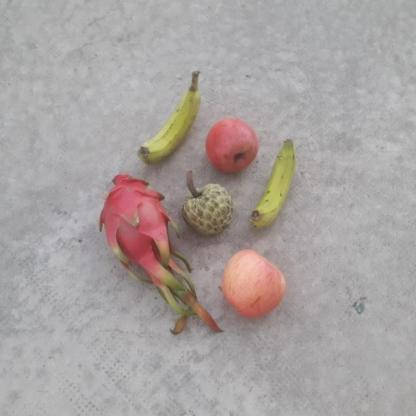annona: (180, 182, 234, 236)
apple: (217, 247, 297, 326), (204, 116, 262, 176)
banana: (134, 81, 202, 165), (250, 140, 300, 226)
pitaya: (97, 179, 175, 258)
